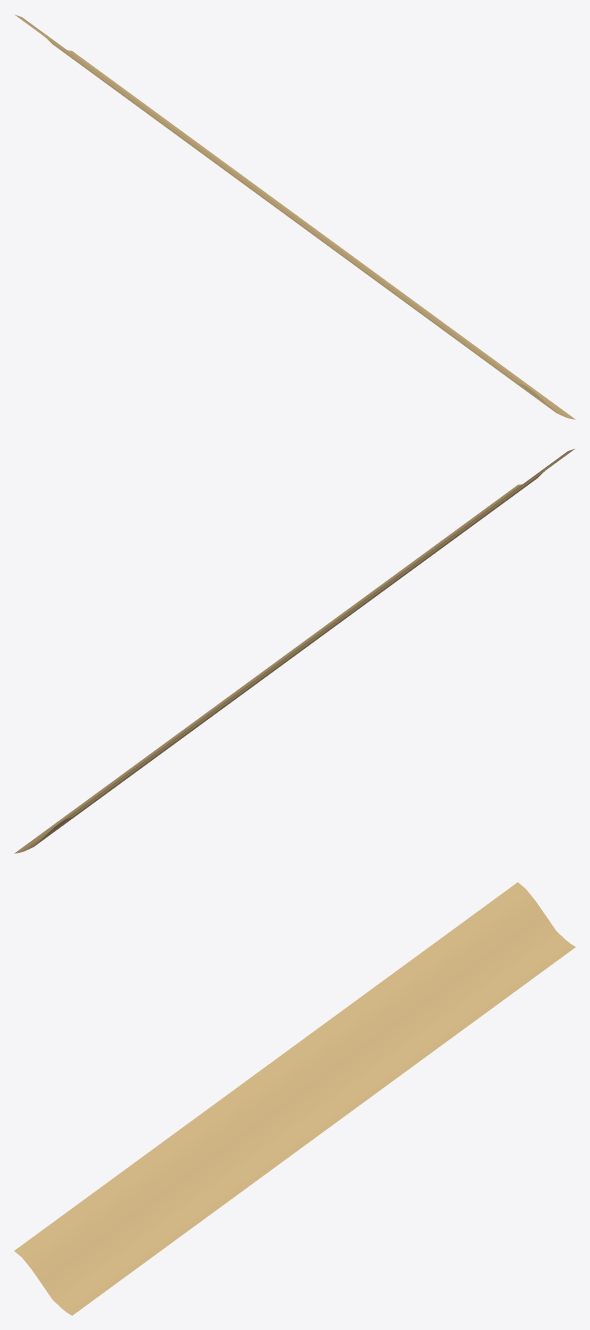
File: P_Pente_sable 1.fbx
3 renders of one model, top to bottom at view 1: azimuth 30°, elevation 25°; view 2: azimuth 150°, elevation 25°; view 3: azimuth 330°, elevation 25°, orthographic.
Visible parts, largest first — view 1: P_Pente_sable; view 2: P_Pente_sable; view 3: P_Pente_sable.
Part boxes in pixels (bbox=[...]): P_Pente_sable: bbox=[15, 15, 575, 419]; P_Pente_sable: bbox=[14, 449, 574, 853]; P_Pente_sable: bbox=[14, 882, 575, 1315].
Size of the model in its own units: 12 by 10 by 180.
